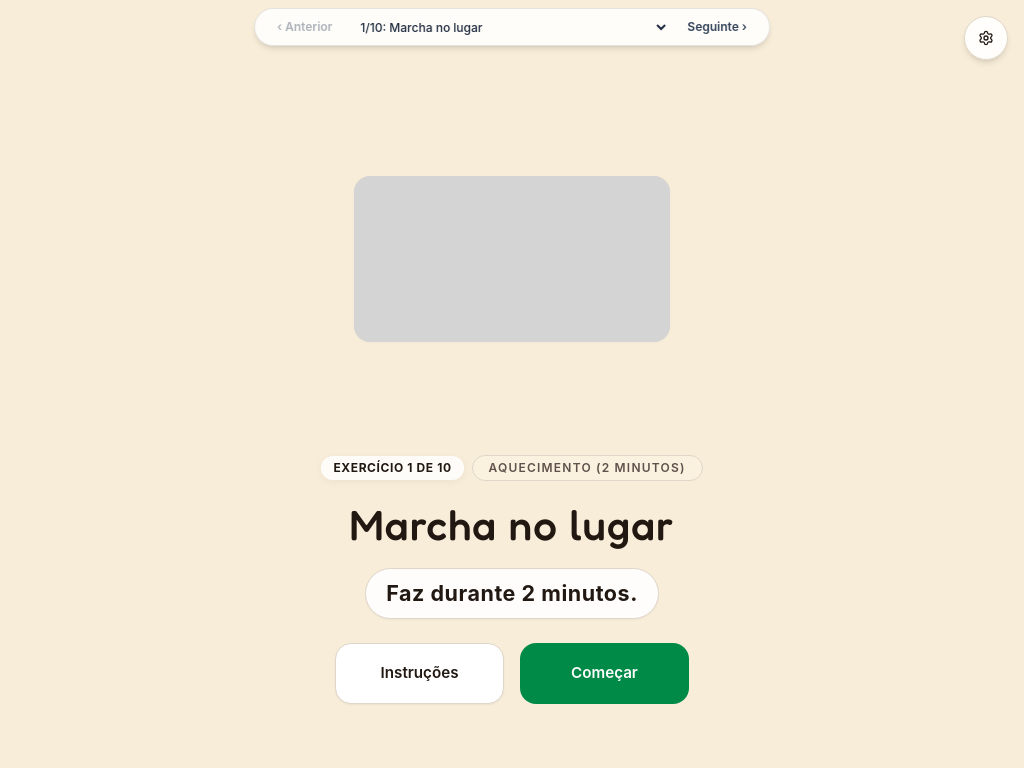
exercise programme › continues from a Crescer rest into the next set without another tap
This screenshot has width=1024, height=768.
Later steps or results of the test are not shown.
Click the button "Começar".
click(604, 673)  # box x1=520 y1=643 x2=689 y2=704
Wait 124600 ms
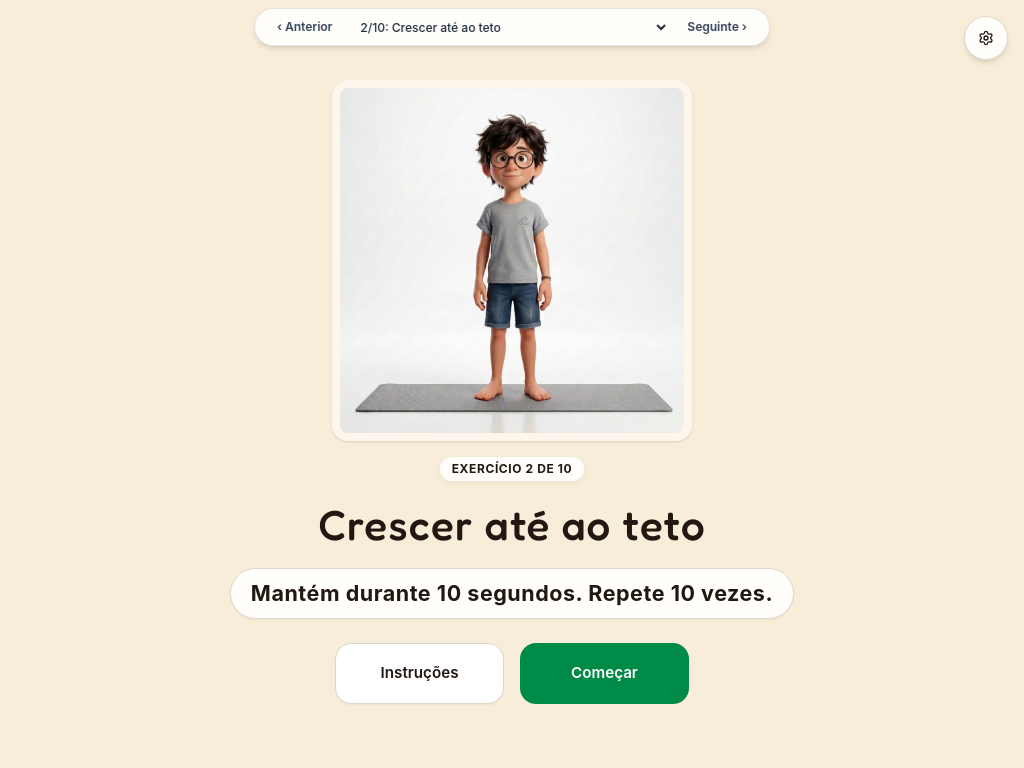
Click the button "Começar".
click(604, 673)  # box x1=520 y1=643 x2=689 y2=704
Wait 27800 ms
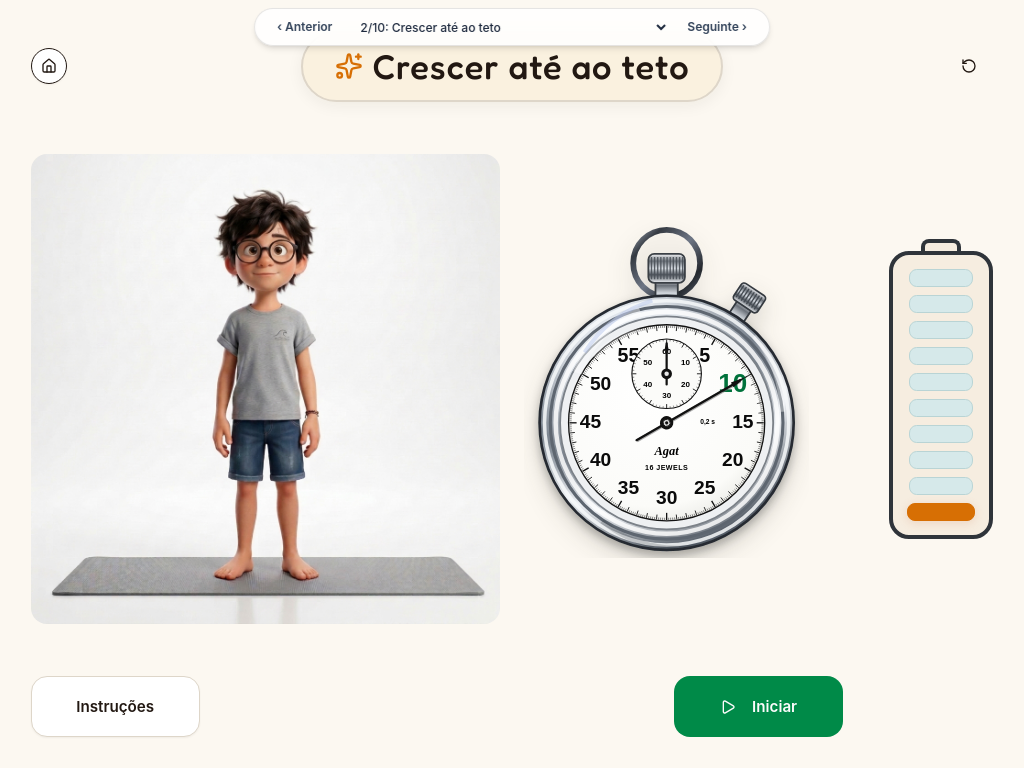
Expected: the heading "Crescer até ao teto" is shown, x1=373 y1=45 x2=690 y2=88
Expected: the button named "pausar" is shown, x1=674 y1=676 x2=843 y2=737
